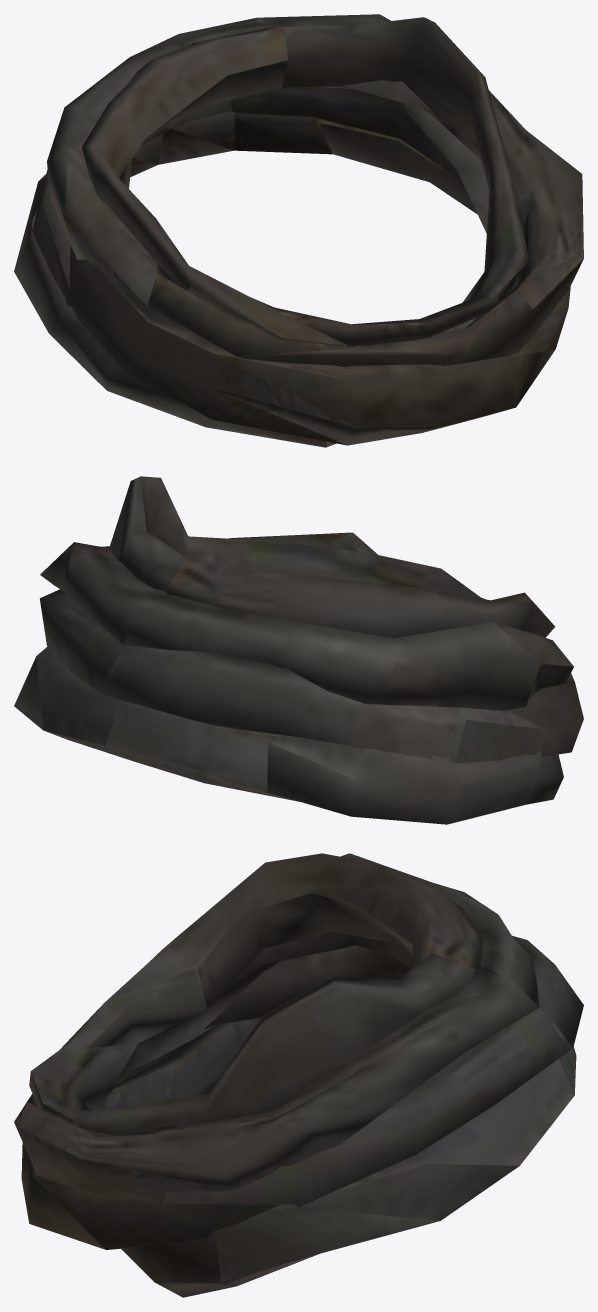
File: braided-wire.glb
3 renders of one model, top to bottom at view 1: azimuth 30°, elevation 25°; view 2: azimuth 150°, elevation 25°; view 3: azimuth 270°, elevation 25°, orthographic. The views are drawn at different scales.
Parts seen in each view (by area): view 1: braided-wire; view 2: braided-wire; view 3: braided-wire.
Part boxes in pixels (box(x1,y1,x2,y2)): braided-wire: box(14, 14, 583, 447); braided-wire: box(14, 476, 583, 824); braided-wire: box(14, 853, 583, 1297).
Size of the model in its own units: 0.1816 by 0.1138 by 0.1826.
1 material, 1 textured.
